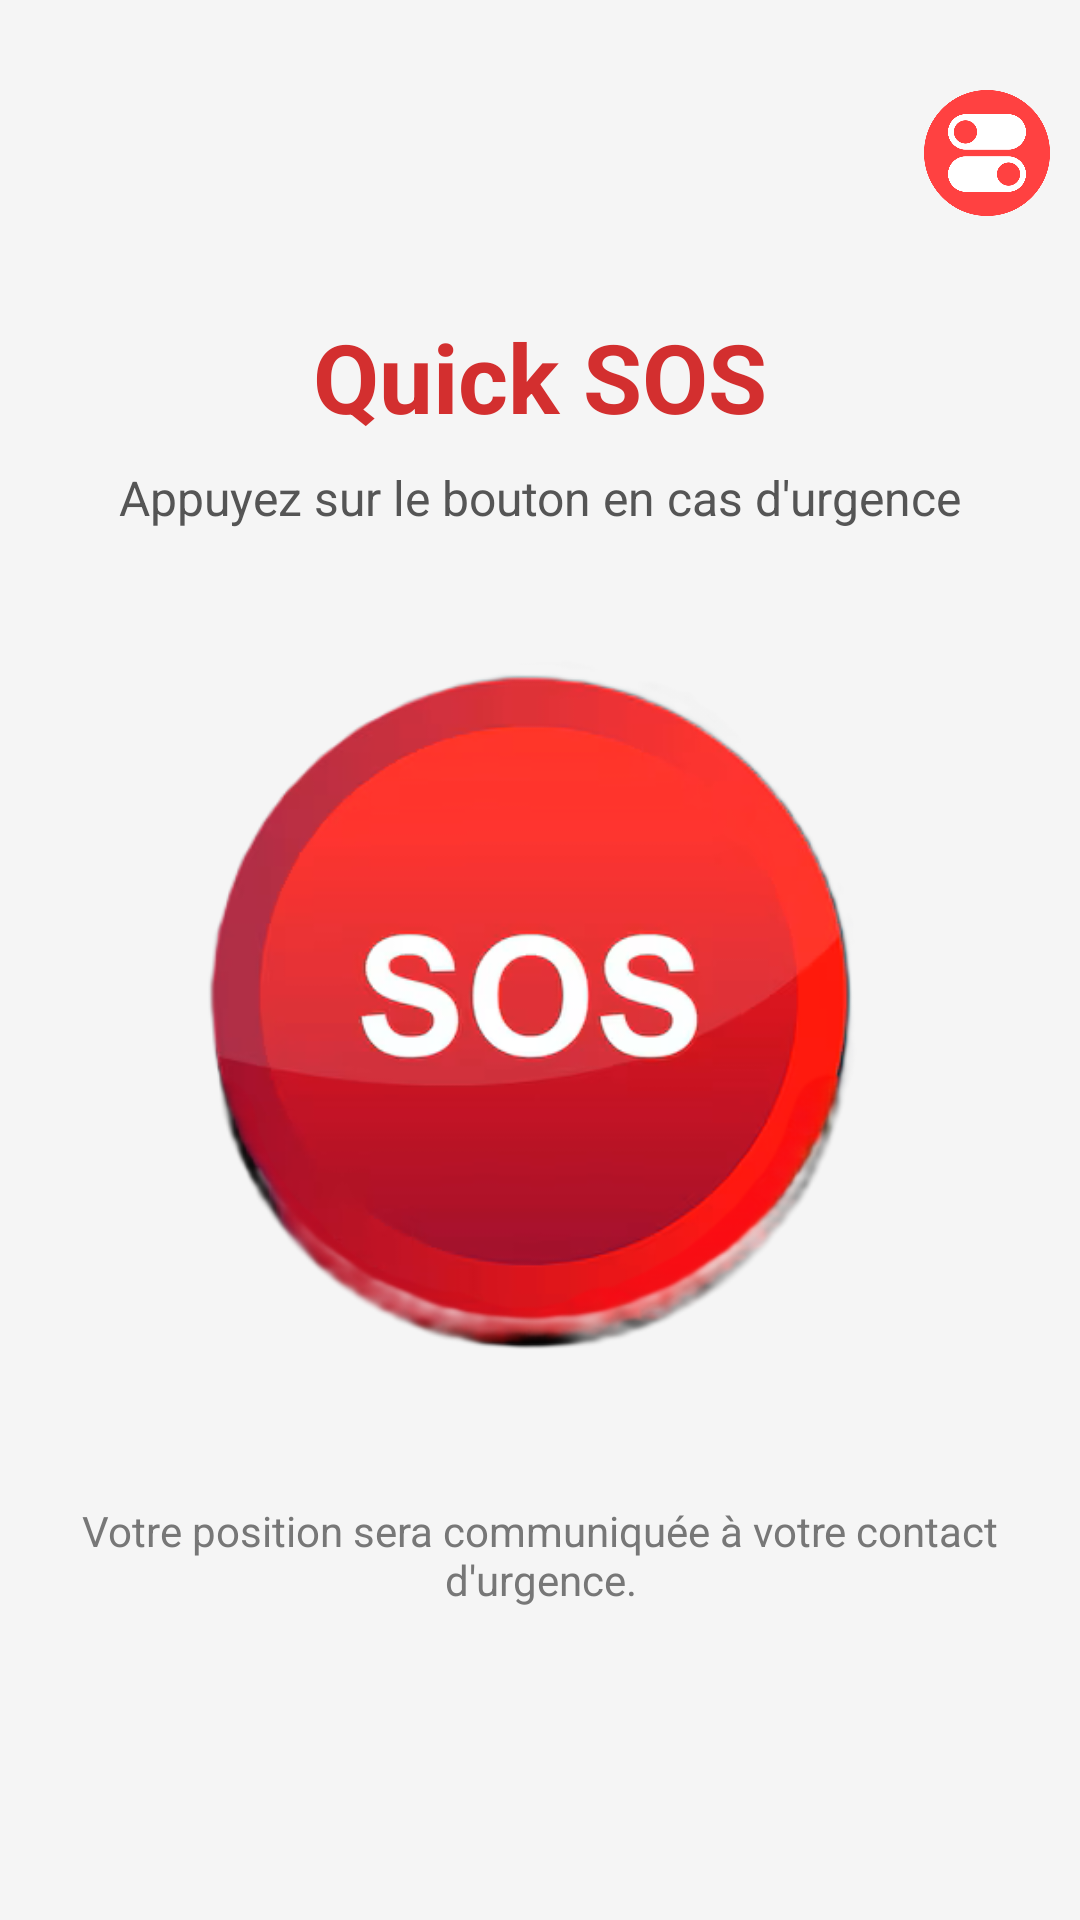

Screen size 1080w x 1920h. Icon name, then its center in pixels as (x=x, y=y):
Settings: (x=987, y=153)
